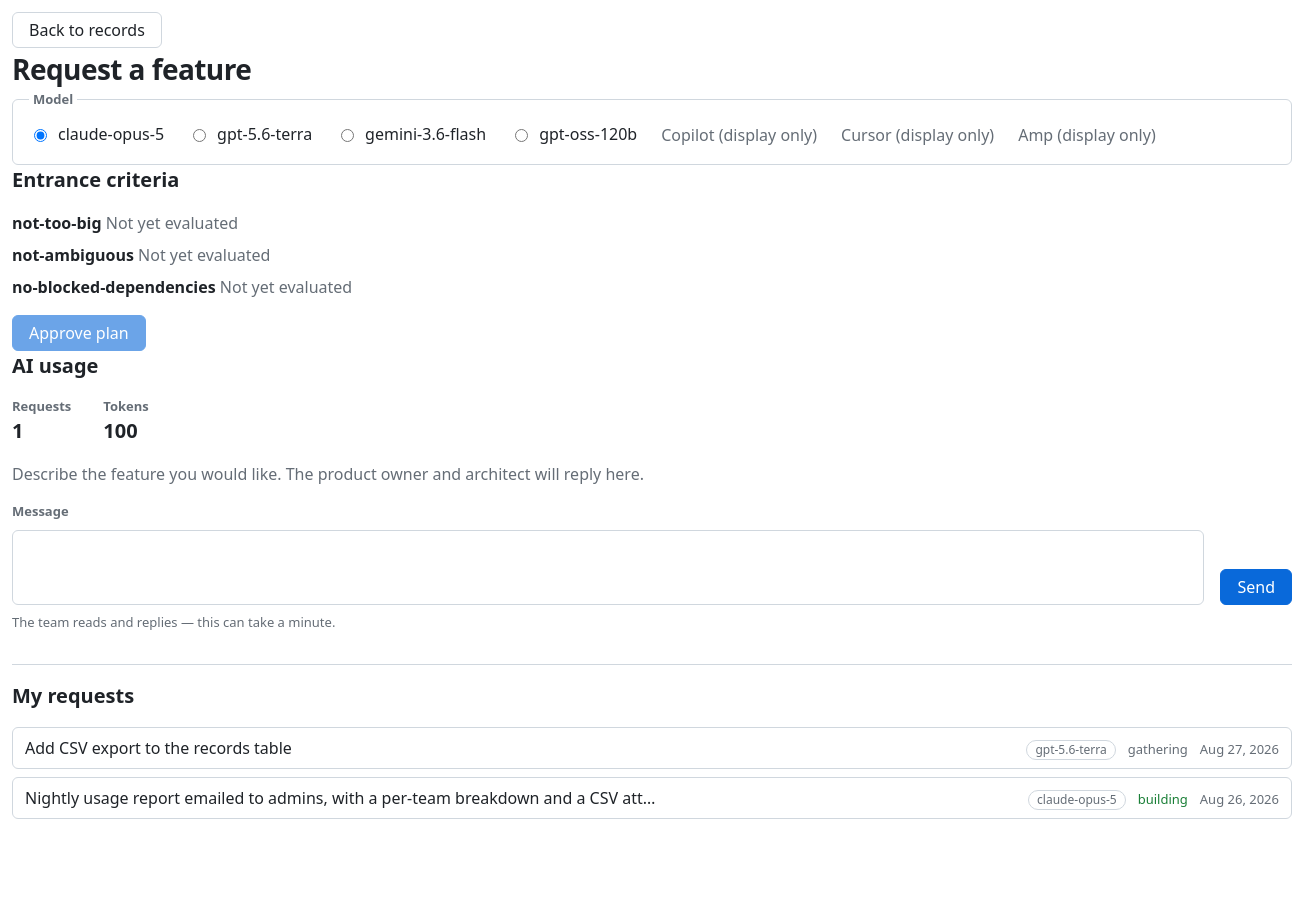
Test: DAN-74 my-requests list › reopens a building session straight into the build DAG, polling with that promptId
Click the button "Nightly usage report".
click(652, 798)  # box [12, 777, 1292, 819]
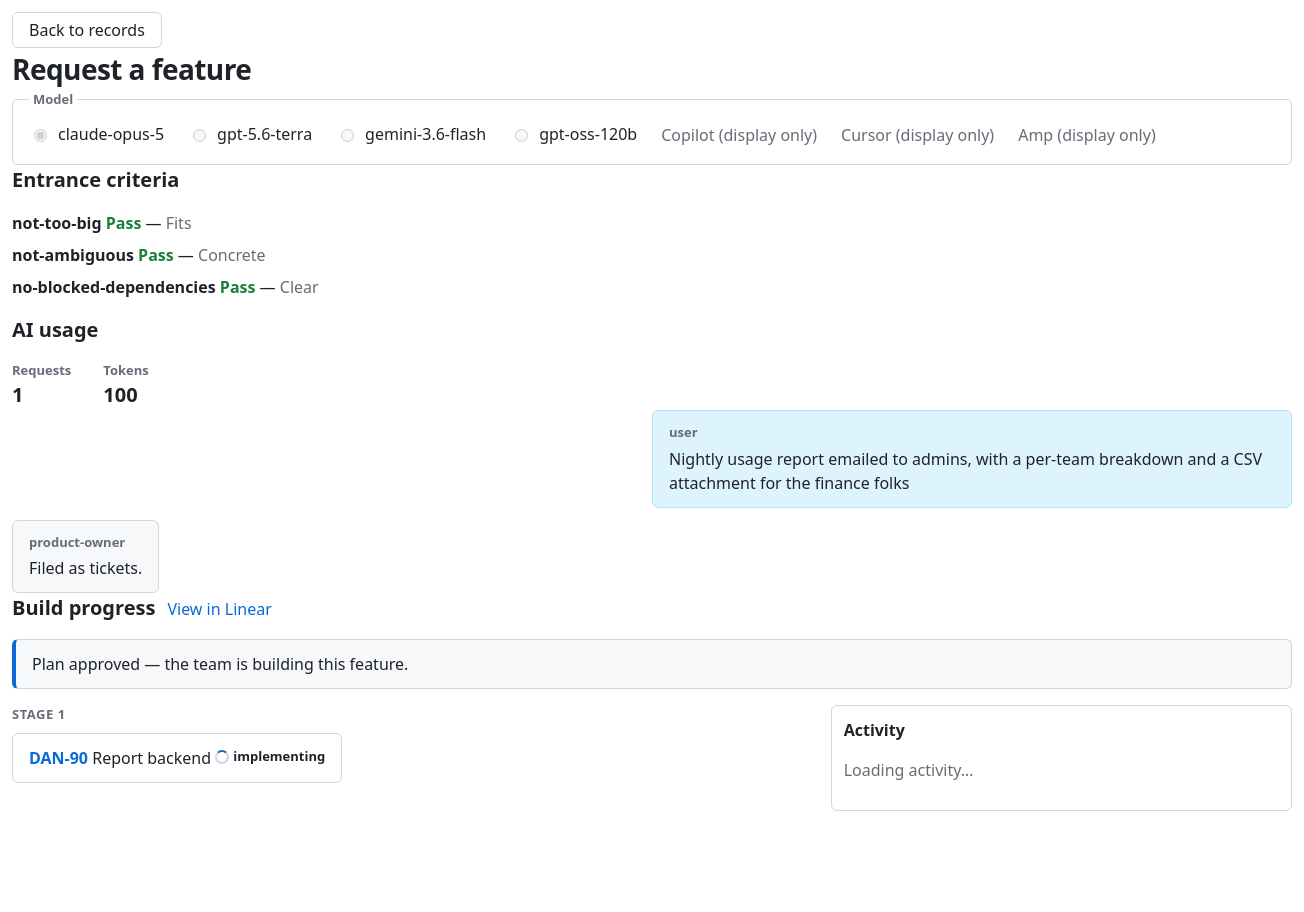
Expected: the element "Build progress" is shown, [12, 593, 1292, 811]
Expected: the link "DAN-90" is shown, [29, 746, 88, 768]
Expected: the label labelled "Message" is gone
